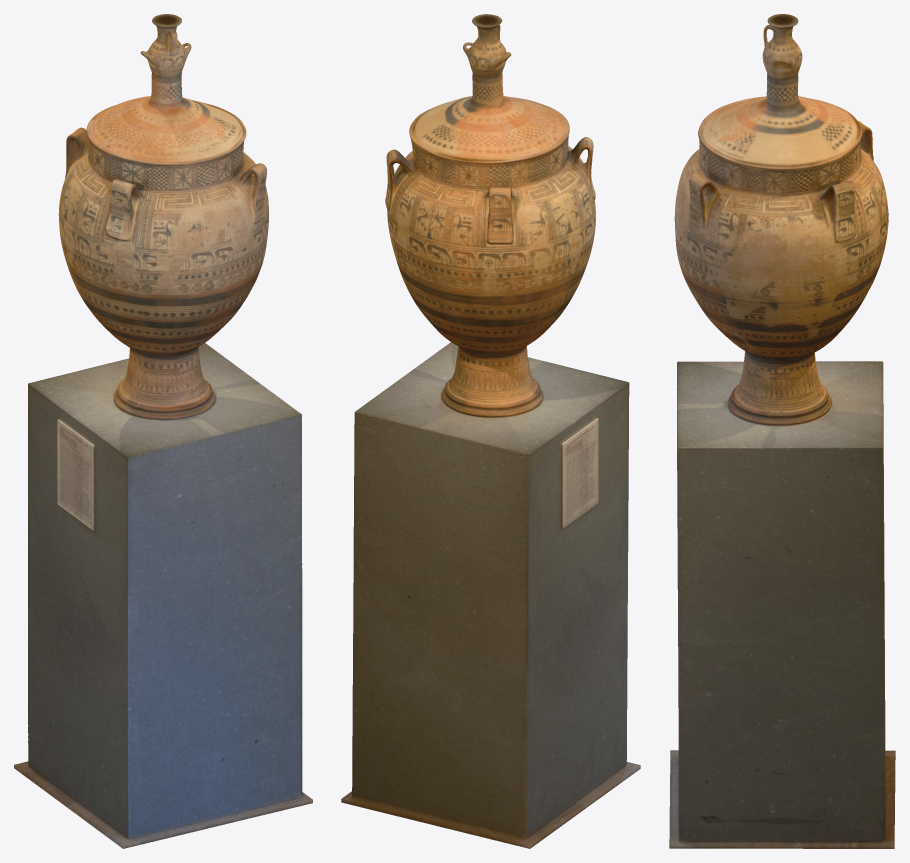
File: greek-krater.glb
3 renders of one model, left to right at view 1: azimuth 30°, elevation 25°; view 2: azimuth 150°, elevation 25°; view 3: azimuth 270°, elevation 25°, orthographic. The views are drawn at different scales.
Visible parts, largest first — view 1: Object_5, Object_3, Object_2, Object_4, Object_6; view 2: Object_5, Object_2, Object_3, Object_4, Object_6; view 3: Object_5, Object_3, Object_2, Object_4, Object_6.
Boxes of the visible parts, left/top/right/bottom form: Object_5: left=28, top=343, right=312, bottom=848; Object_3: left=59, top=14, right=268, bottom=420; Object_2: left=58, top=32, right=266, bottom=420; Object_4: left=61, top=239, right=267, bottom=405; Object_6: left=14, top=761, right=312, bottom=848; Object_5: left=341, top=342, right=629, bottom=848; Object_2: left=385, top=25, right=595, bottom=418; Object_3: left=385, top=14, right=595, bottom=418; Object_4: left=392, top=229, right=590, bottom=383; Object_6: left=341, top=762, right=640, bottom=848; Object_5: left=677, top=361, right=895, bottom=842; Object_3: left=674, top=14, right=887, bottom=424; Object_2: left=689, top=30, right=888, bottom=426; Object_4: left=674, top=221, right=886, bottom=424; Object_6: left=669, top=750, right=895, bottom=848.
Bounding box in the file's own units: 0.5931 × 2.28 × 0.5967.
Materials: 3 (3 with a texture image).
